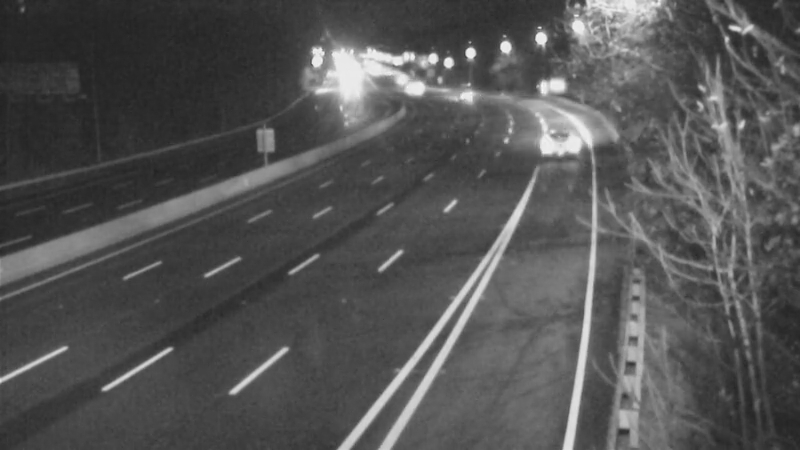vehicle: (374, 57, 424, 107), (443, 68, 493, 118), (528, 116, 578, 166)
